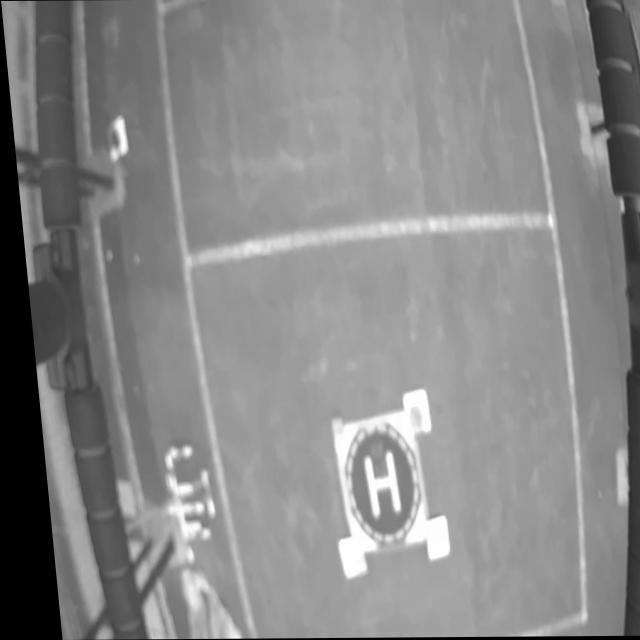Helipad: (352, 448, 391, 519)
